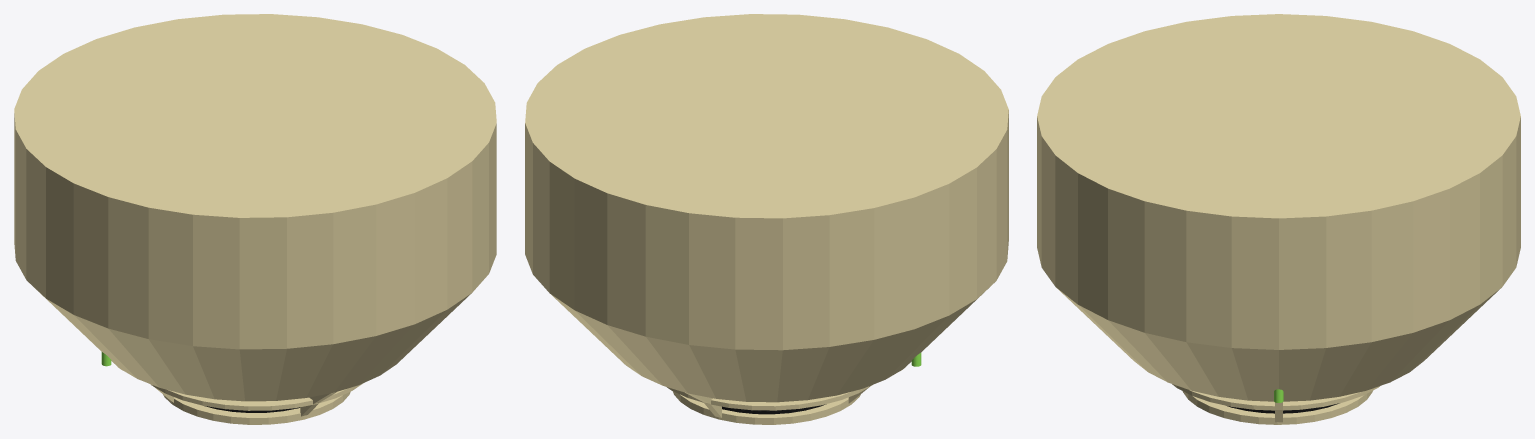
The model's file is SensorDeHumoFinalizado3.fbx.
3 views of the same model, side by side, from view 1: azimuth 30°, elevation 25°; view 2: azimuth 150°, elevation 25°; view 3: azimuth 270°, elevation 25° (orthographic).
Parts seen in each view (by area): view 1: SensorDeHumo; view 2: SensorDeHumo; view 3: SensorDeHumo.
Part boxes in pixels (box(x1,y1,x2,y2)): SensorDeHumo: box(14, 14, 496, 424); SensorDeHumo: box(525, 14, 1008, 424); SensorDeHumo: box(1037, 14, 1520, 424).
Bounding box in the file's own units: 10 × 6.11 × 10.
